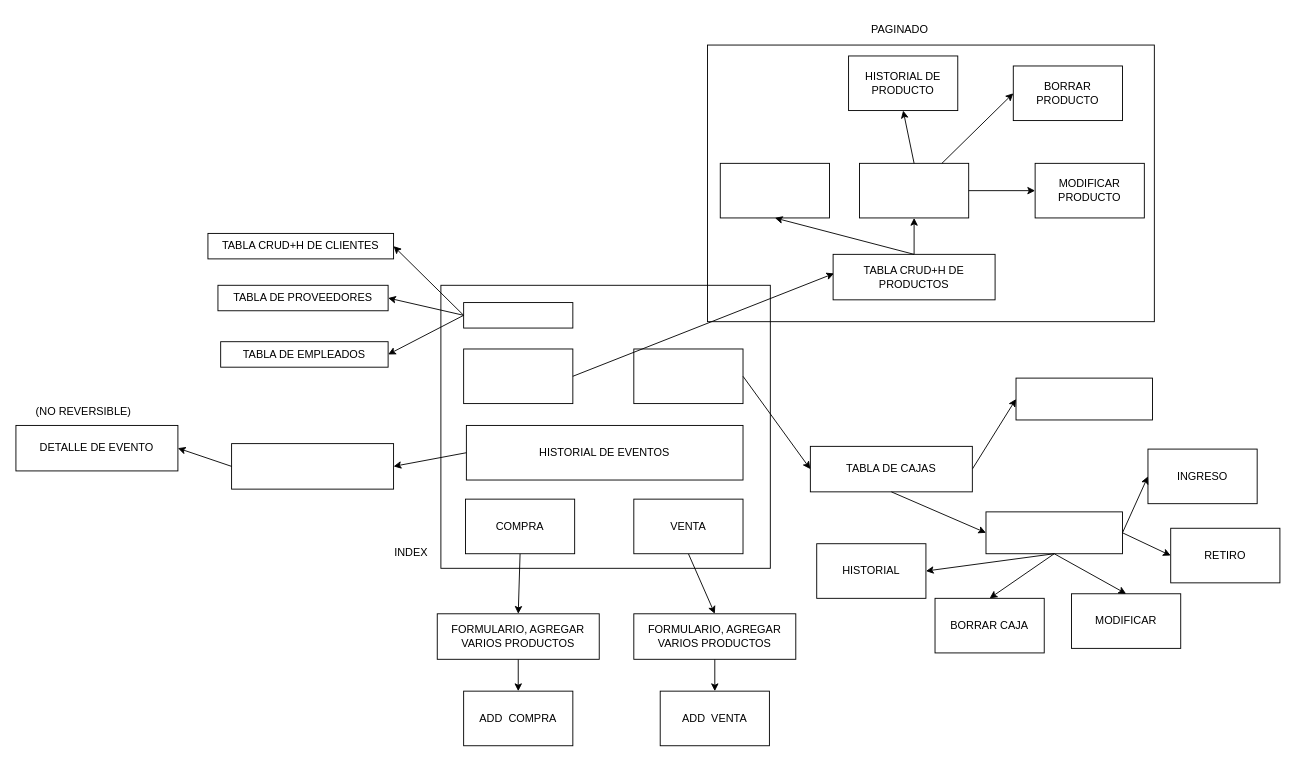
Some shapes in this 1296 by 762 pixel diagram are drawn without their labels. The centre of each missing label's shape, as x and y in pixels:
"ADMIN" belongs at (x=518, y=315).
"AGREGAR CAJA" belongs at (x=1084, y=398).
"AGREGAR PRODUCTO (FORMULARIO)" belongs at (x=774, y=190).
"CAJAS" belongs at (x=688, y=376).
"PRODUCTOS" belongs at (x=518, y=376).
"SELECCIONAR CAJA" belongs at (x=1053, y=532).
"TABLA DE EVENTOS" belongs at (x=312, y=466).
"VER PRODUCTO ESPECIFICO" belongs at (x=914, y=190).
